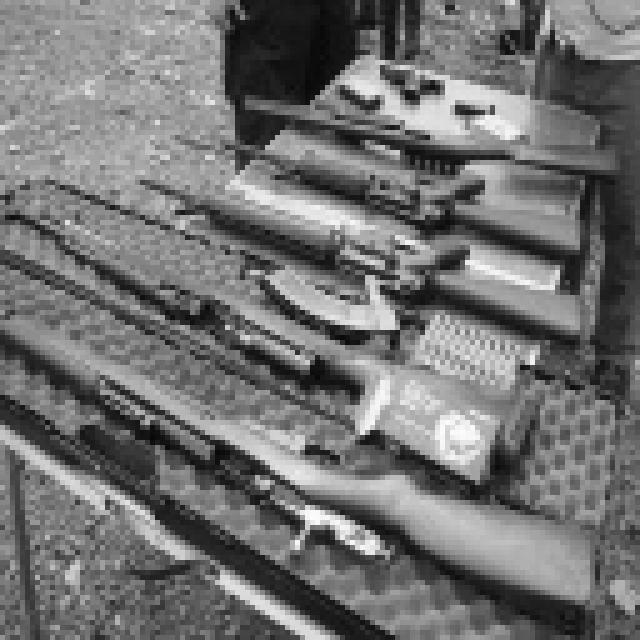Rifle: (0, 291, 616, 628), (0, 184, 552, 508), (126, 162, 604, 370), (142, 81, 606, 280), (223, 33, 614, 203), (356, 46, 444, 98)
